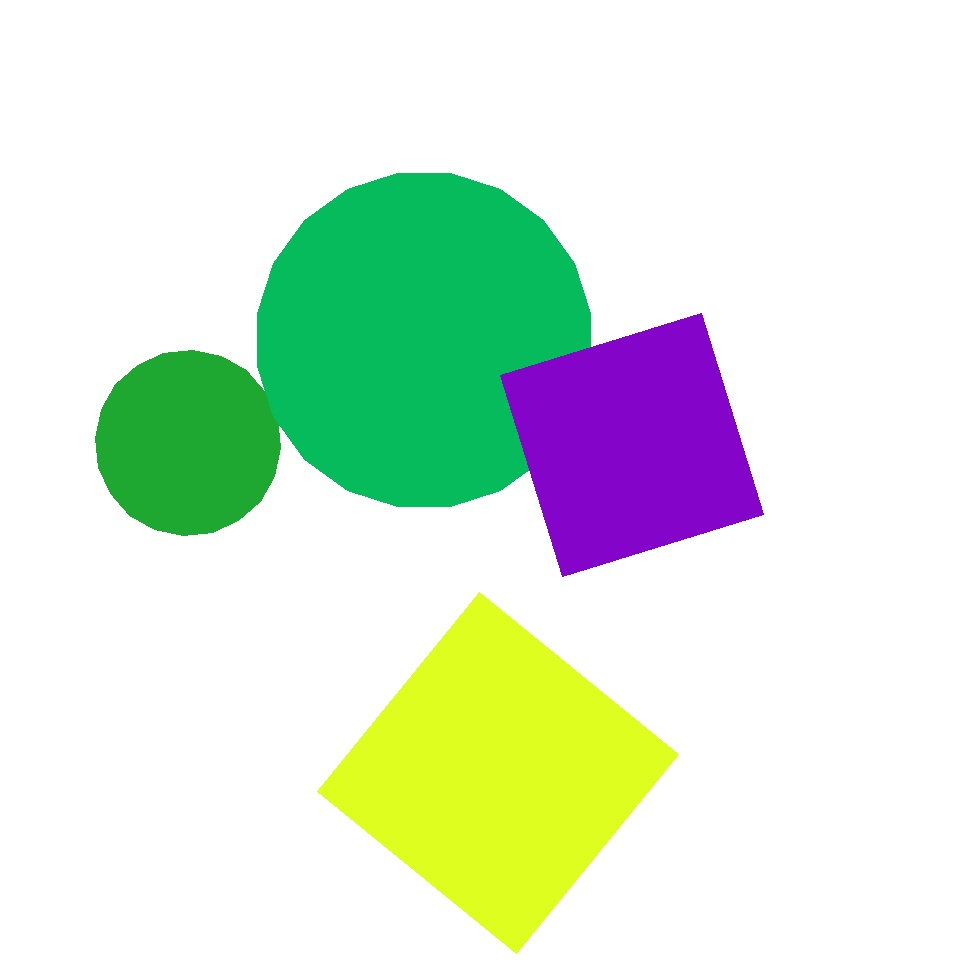circle: (546, 172, 760, 398), (738, 670, 890, 815)
square: (318, 592, 678, 954), (500, 314, 764, 576), (150, 522, 298, 668)
triangle: (257, 174, 590, 506), (96, 350, 280, 536), (361, 52, 522, 213)
